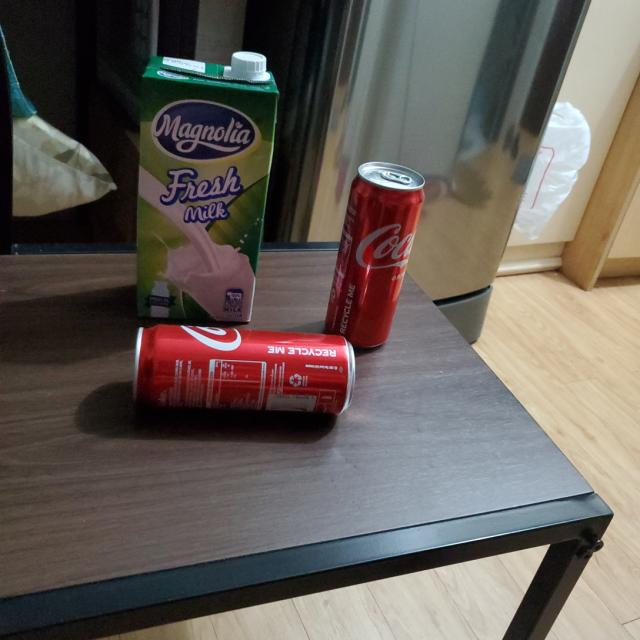coke: (133, 324, 358, 418), (323, 162, 432, 352)
milk: (137, 47, 279, 321)
